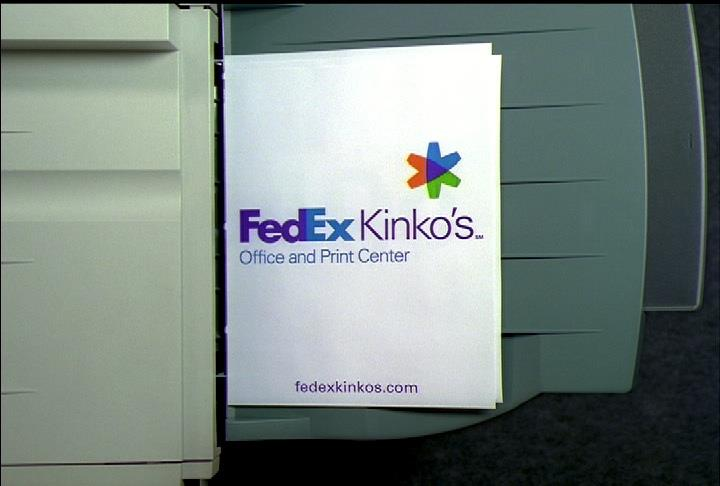FedEX: (235, 201, 357, 244)
